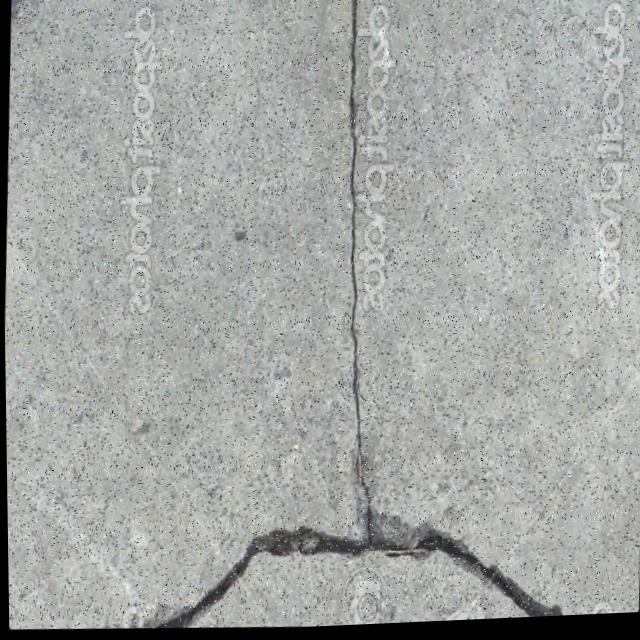Crack: (144, 478, 573, 635), (320, 0, 388, 536)
